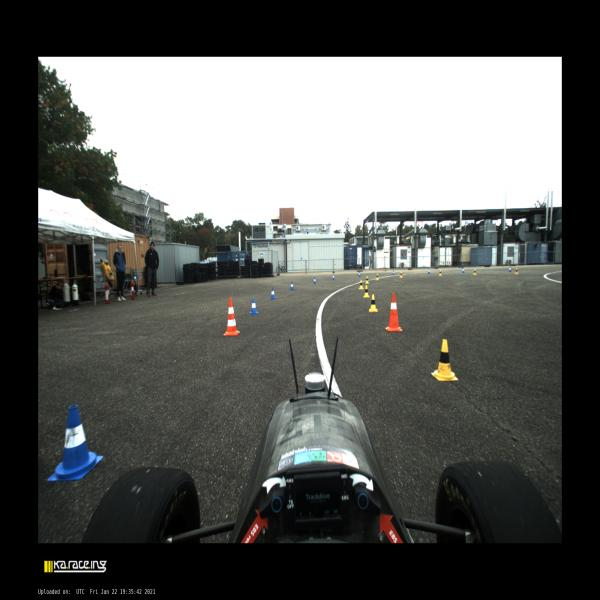blue_cone: (47, 405, 104, 483), (249, 298, 259, 315), (270, 288, 276, 300), (290, 282, 294, 290), (312, 276, 316, 284), (392, 269, 396, 277), (461, 266, 465, 274), (426, 267, 430, 274), (508, 265, 512, 272), (332, 274, 335, 280), (358, 272, 361, 278)
large_orange_cone: (385, 293, 403, 332), (223, 297, 240, 337)
yellow_cone: (431, 339, 458, 381), (369, 294, 378, 312), (363, 285, 370, 298), (358, 280, 364, 290), (364, 276, 370, 284), (375, 273, 380, 281), (514, 268, 519, 275), (399, 271, 403, 278), (473, 268, 476, 276), (438, 270, 442, 276)
